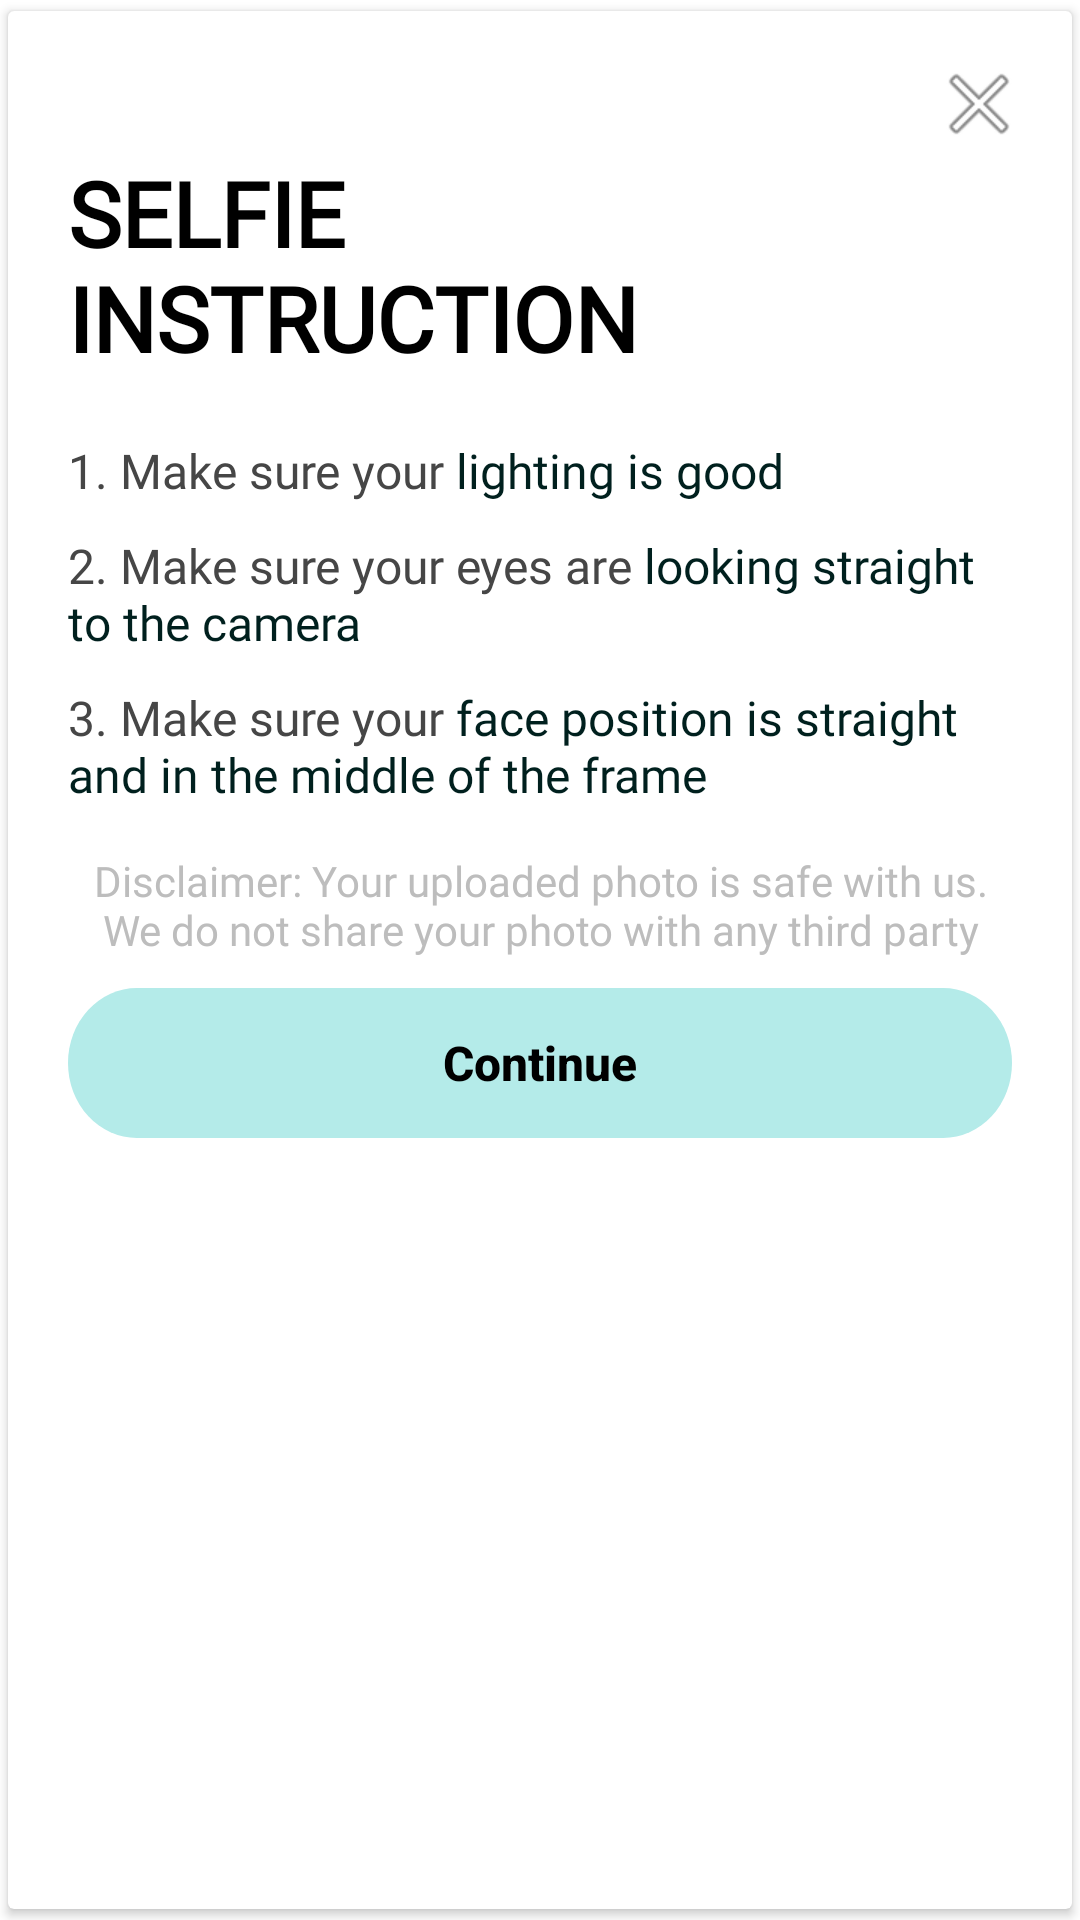

Where icons sit on this 1080x1920 app screen, as (x1=x1, y1=y1, x2=x2, y2=y2):
close clear cancel: (x1=949, y1=74, x2=1009, y2=134)
